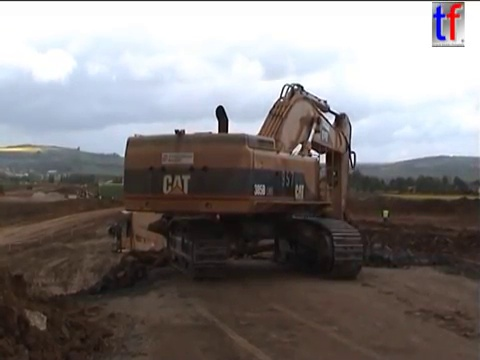excavator: (120, 79, 367, 282), (70, 187, 101, 204)
truck: (106, 205, 285, 280), (24, 182, 35, 192)
worker: (380, 205, 392, 227)
